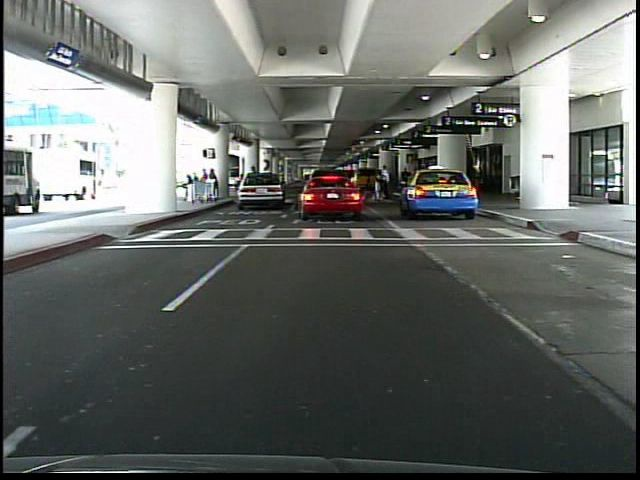person: (249, 163, 262, 206), (399, 165, 411, 202), (382, 165, 394, 200), (361, 172, 372, 202)
